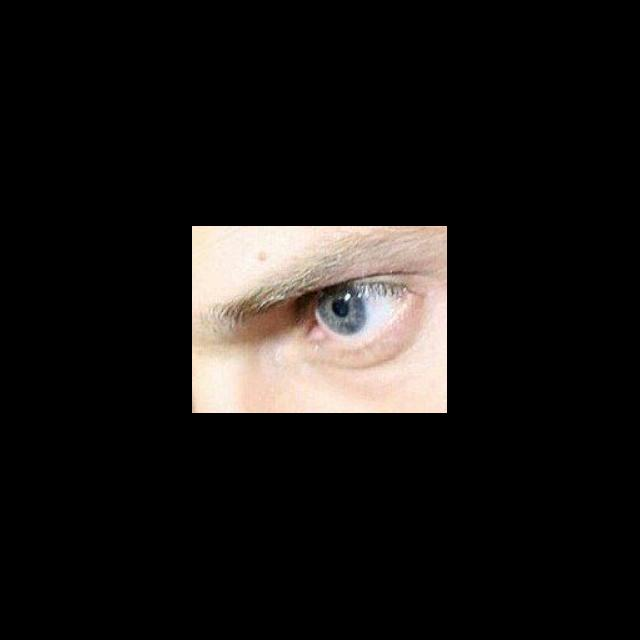eye: (316, 293, 404, 343)
iris: (319, 296, 367, 334)
